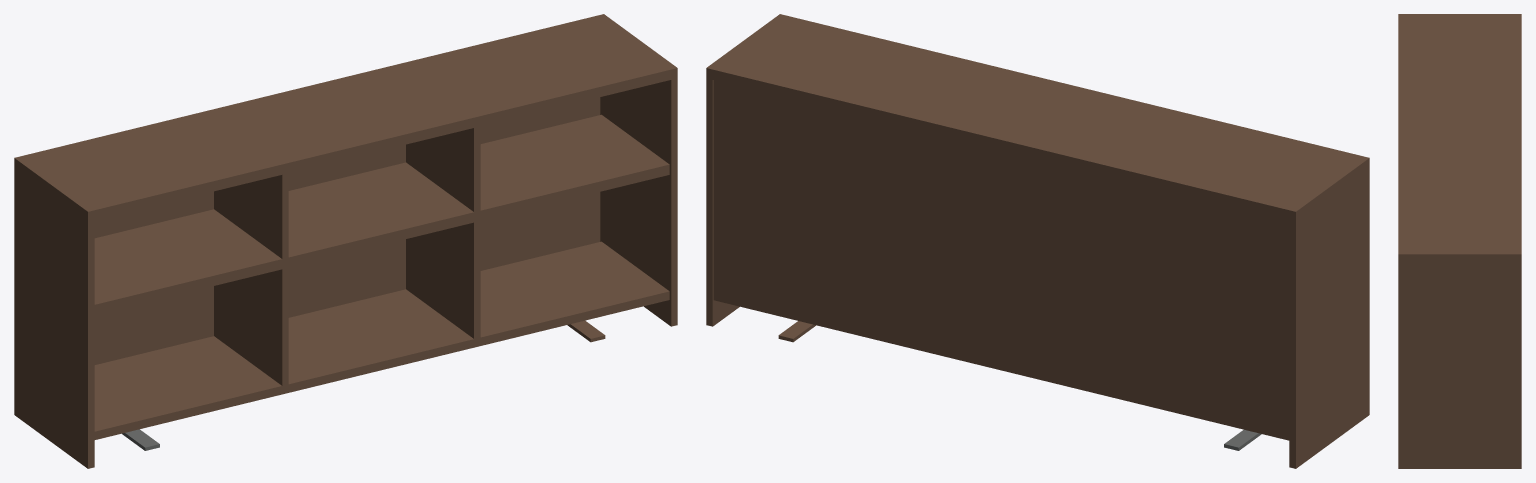
Rendered from main-record-credenza.glb.
The picture shows the model from 3 angles, left to right: view 1: azimuth 30°, elevation 25°; view 2: azimuth 150°, elevation 25°; view 3: azimuth 270°, elevation 25°; orthographic projection. The views are drawn at different scales.
Visible parts, largest first — view 1: wood; view 2: wood; view 3: wood.
Part boxes in pixels (x1=…): wood: x1=14, y1=14, x2=677, y2=468; wood: x1=706, y1=14, x2=1369, y2=468; wood: x1=1398, y1=14, x2=1521, y2=468.
Bounding box in the file's own units: 1.8 × 0.76 × 0.39.
